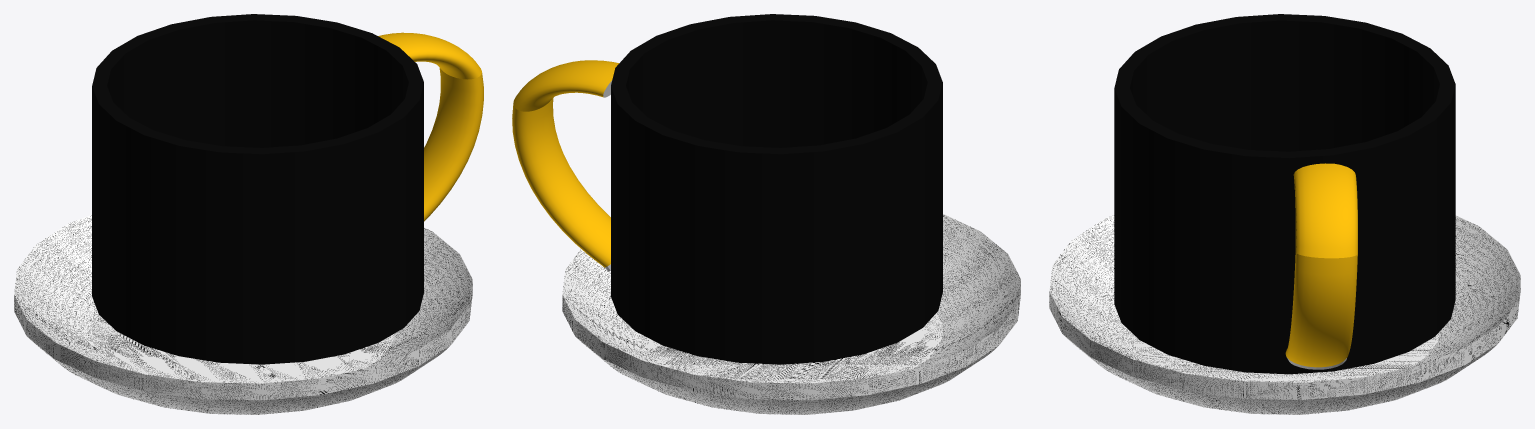
Rendered from mug_15_origin_gt_1.dae.
3 renders of one model, left to right at view 1: azimuth 30°, elevation 25°; view 2: azimuth 150°, elevation 25°; view 3: azimuth 270°, elevation 25°, orthographic. The views are drawn at different scales.
Parts seen in each view (by area): view 1: SketchUp (×4); view 2: SketchUp (×4); view 3: SketchUp (×4).
Part boxes in pixels (<box>): SketchUp (×4): <box>14,14,483,414</box>; SketchUp (×4): <box>512,14,1020,414</box>; SketchUp (×4): <box>1049,14,1520,414</box>.
Size of the model in its own units: 4.73 by 4.16 by 2.54.
